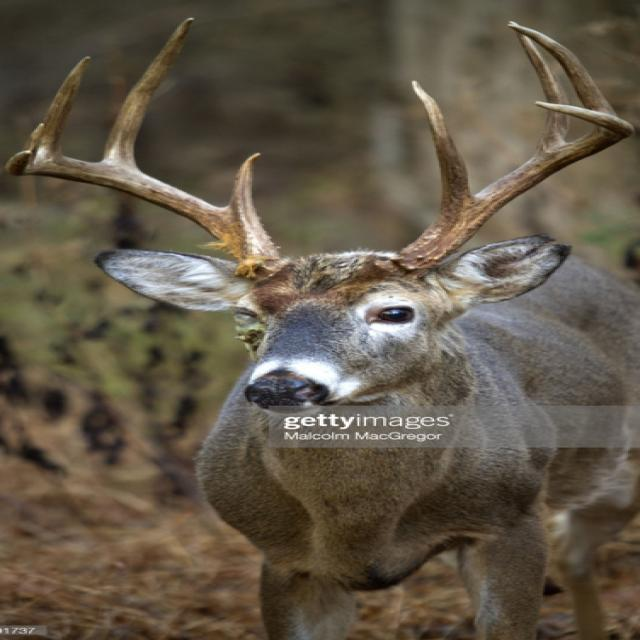L-F: (393, 99, 635, 273)
L-G1: (408, 78, 475, 213)
R-F: (20, 54, 282, 279)
R-G1: (224, 151, 264, 224)
R-G2: (99, 16, 196, 172)
